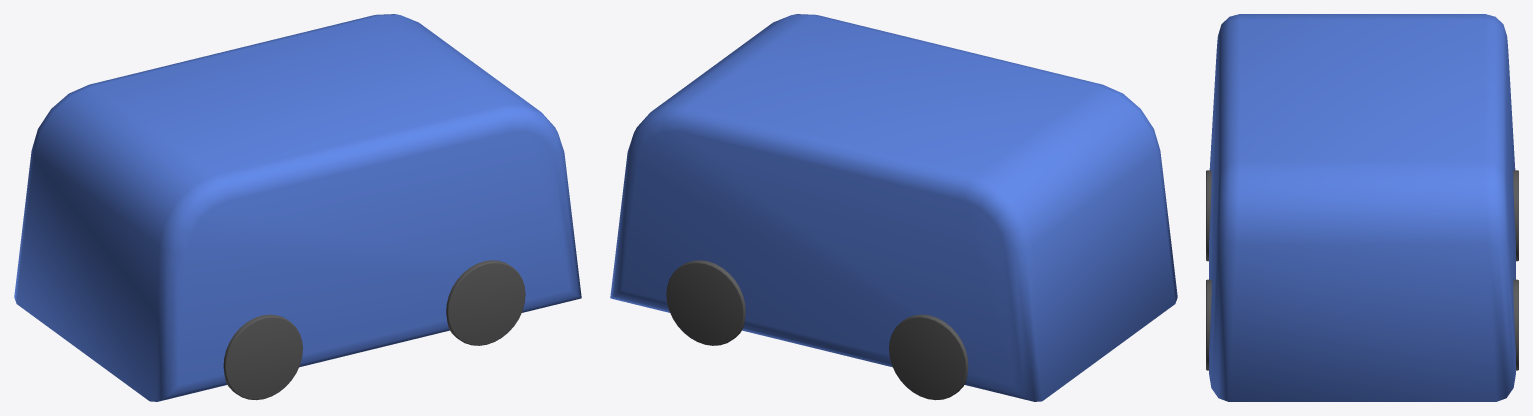
File: CasualCar.fbx
3 views of the same model, side by side, from view 1: azimuth 30°, elevation 25°; view 2: azimuth 150°, elevation 25°; view 3: azimuth 270°, elevation 25° (orthographic).
Parts seen in each view (by area): view 1: Body, Wheel; view 2: Body, Wheel; view 3: Body, Wheel.
Part boxes in pixels (x1,y1,x2,y2): Body: (14,14,581,401); Wheel: (223,260,525,400); Body: (610,14,1177,401); Wheel: (666,260,968,400); Body: (1209,14,1515,401); Wheel: (1206,170,1518,370).
Size of the model in its own units: 2 by 0.9778 by 1.25.
